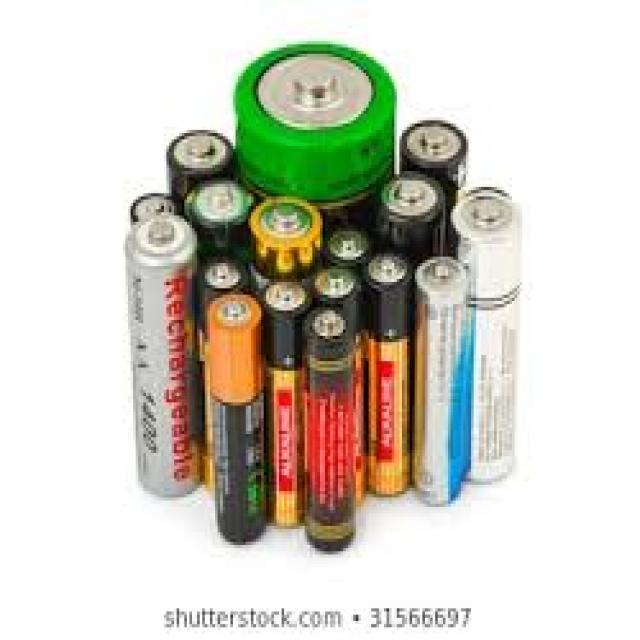non-organic waste: (125, 211, 198, 504), (444, 190, 516, 484), (204, 297, 271, 546), (258, 274, 320, 531), (303, 307, 364, 559), (412, 254, 472, 508), (362, 246, 415, 498)
